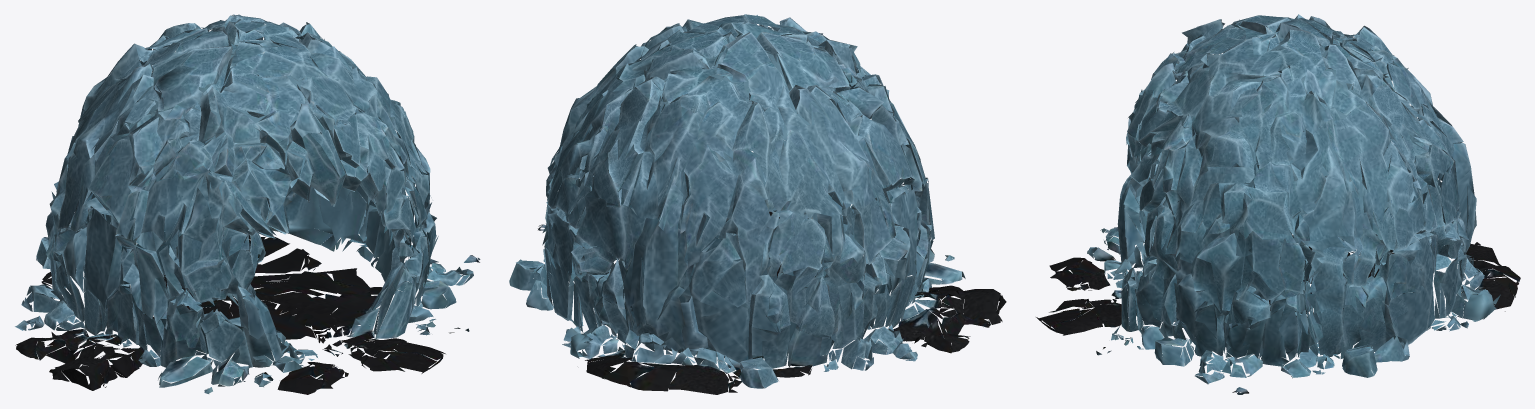
The model's file is ice_shell.glb.
3 renders of one model, left to right at view 1: azimuth 30°, elevation 25°; view 2: azimuth 150°, elevation 25°; view 3: azimuth 270°, elevation 25°, orthographic.
Parts seen in each view (by area): view 1: Mesh_0; view 2: Mesh_0; view 3: Mesh_0.
Part boxes in pixels (x1,y1,x2,y2): Mesh_0: (15, 14, 480, 394); Mesh_0: (509, 14, 1006, 394); Mesh_0: (1036, 14, 1520, 394).
Size of the model in its own units: 1.93 by 1.1 by 1.85.
1 material, 1 textured.
